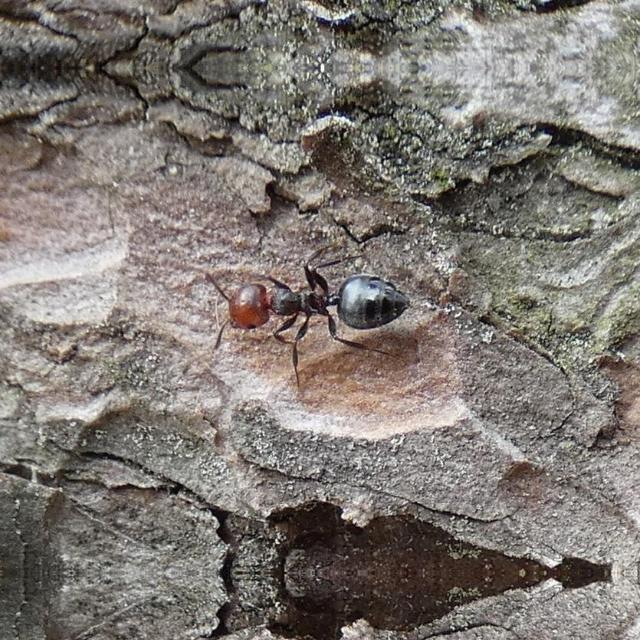Crematogaster: (202, 250, 426, 364)
